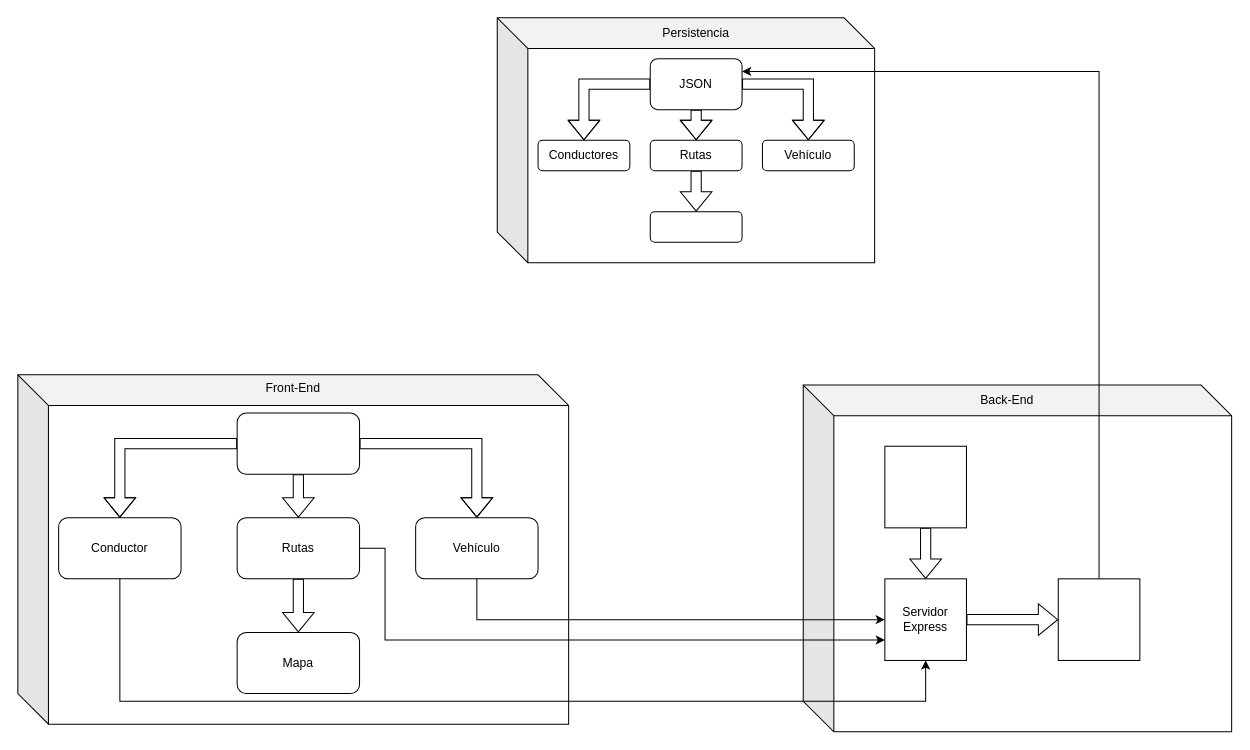
Image size: 1250x750. Some labels were removed from this diagram. The centre of each missing label's shape, as x and y in pixels:
Detalles ruta: (x=695, y=226)
File Handler: (x=1098, y=619)
Node.js: (x=925, y=486)
UI: (x=298, y=443)
